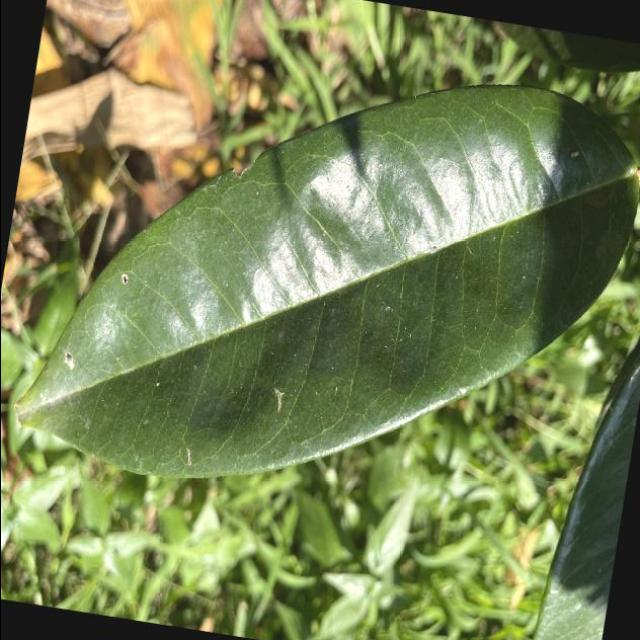No Disease: (0, 2, 640, 557)
